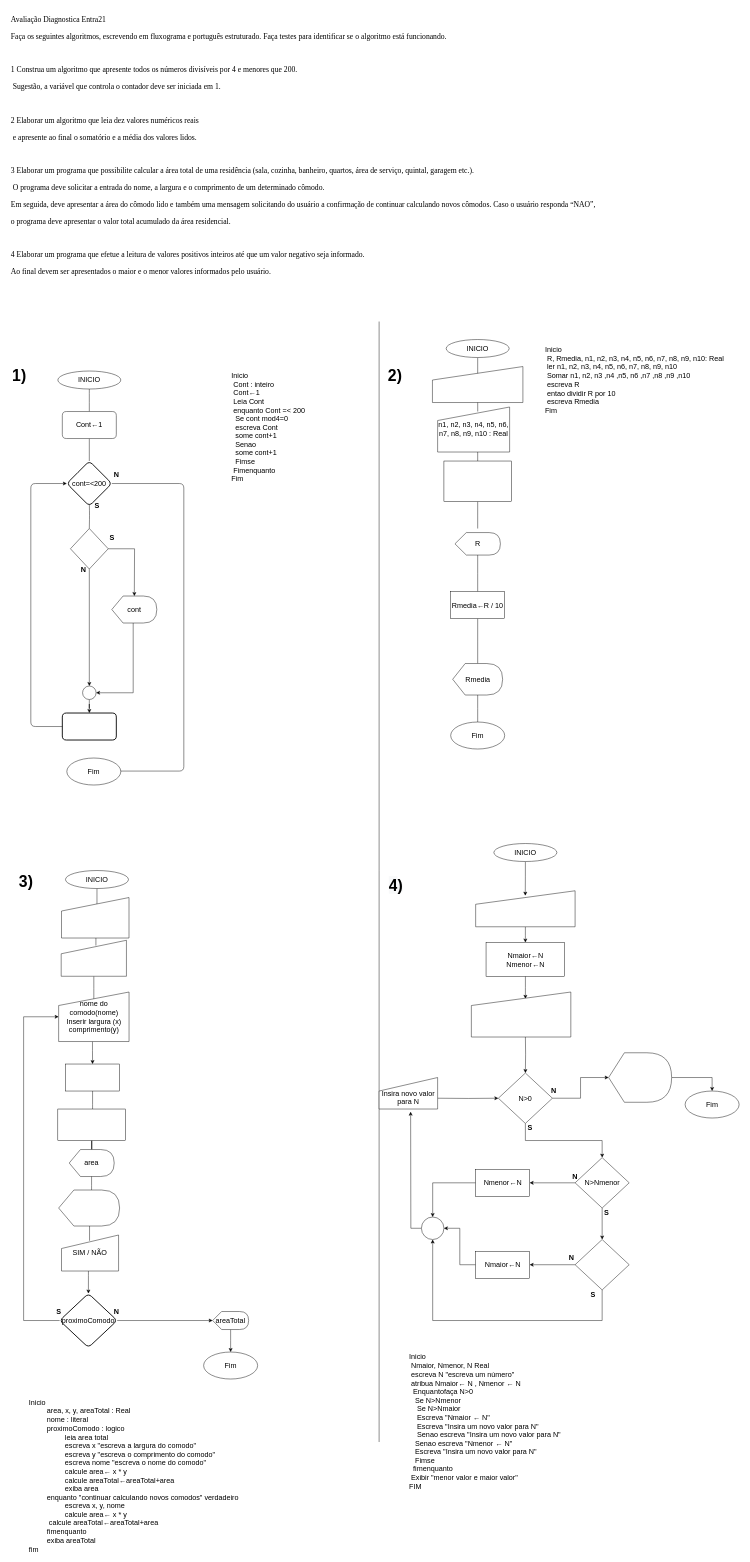
Image size: 750x1562. Some labels were removed from this diagram. Here are the shapes that lost their labels. From the top down, the box of each, then its label:
(432, 366, 523, 403): R Rmedia :Real
(443, 461, 511, 502): Somar n1 + n2 +n3 + n4 + n5 + n6 + n7 + n8 + n9 + n10
(70, 528, 108, 569): Se cont mod4=0
(62, 712, 117, 740): cont +1
(61, 897, 129, 938): area : Real x, y : Real nome : literal AreaTotal←1: real
(475, 890, 575, 927): Insira valor N
(61, 940, 126, 976): proximoComodo : logico
(471, 992, 571, 1037): Nmaior Nmenor Real
(65, 1064, 120, 1091): area← x * y
(608, 1052, 672, 1102): Exibir maior e menor valor "Nmaior, Nmenor"
(57, 1109, 126, 1141): areaTotal←areaTotal + area
(58, 1190, 120, 1226): Continuar calculando novos comodos?
(575, 1239, 629, 1290): N>Nmaior
